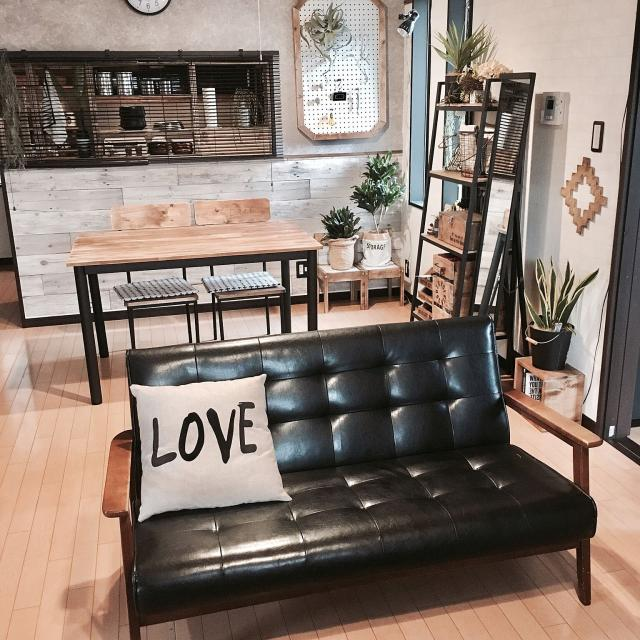vintage chair: (197, 196, 292, 339), (110, 202, 205, 345)
vintage desk: (61, 214, 322, 334)
vintage shelf: (97, 307, 602, 640), (408, 64, 524, 320)
